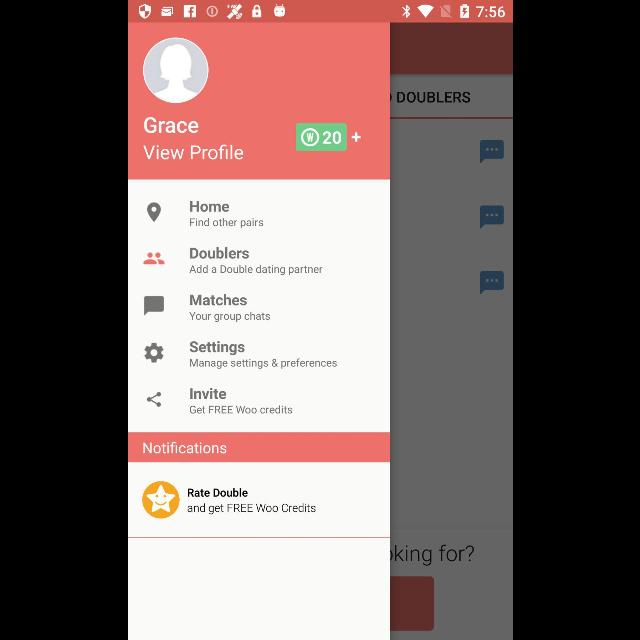icon: (142, 38, 208, 104), (142, 482, 178, 518), (142, 296, 164, 316), (144, 343, 162, 363), (146, 203, 160, 223), (142, 252, 164, 264), (146, 392, 160, 408), (350, 132, 360, 142)
panel: (128, 22, 388, 640)
text: (142, 145, 244, 161), (189, 358, 337, 369), (188, 264, 322, 276), (187, 503, 315, 515), (142, 442, 226, 454), (144, 118, 198, 134), (190, 340, 244, 356), (188, 406, 292, 414), (188, 312, 270, 322), (190, 218, 262, 228), (190, 247, 248, 259), (190, 294, 247, 306), (187, 488, 247, 498), (189, 201, 229, 213), (189, 387, 225, 399)
textbutton: (295, 124, 347, 152)
uppertaskbar: (128, 1, 512, 23)
